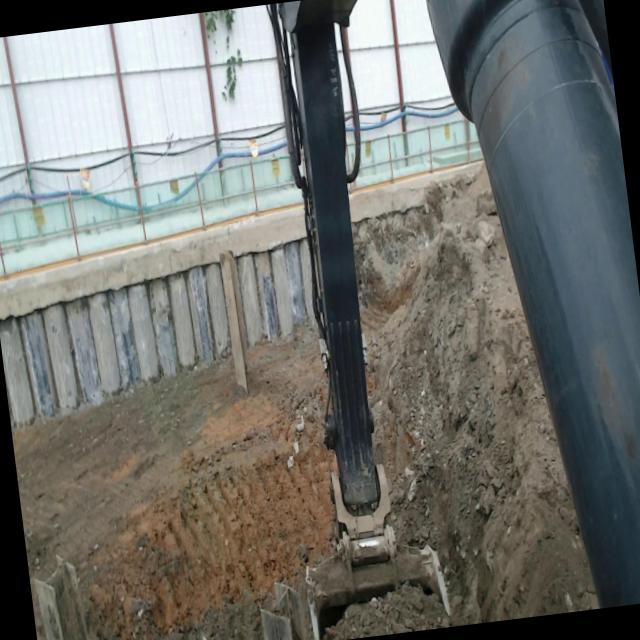white-sand: (322, 165, 599, 640), (11, 325, 335, 640)
